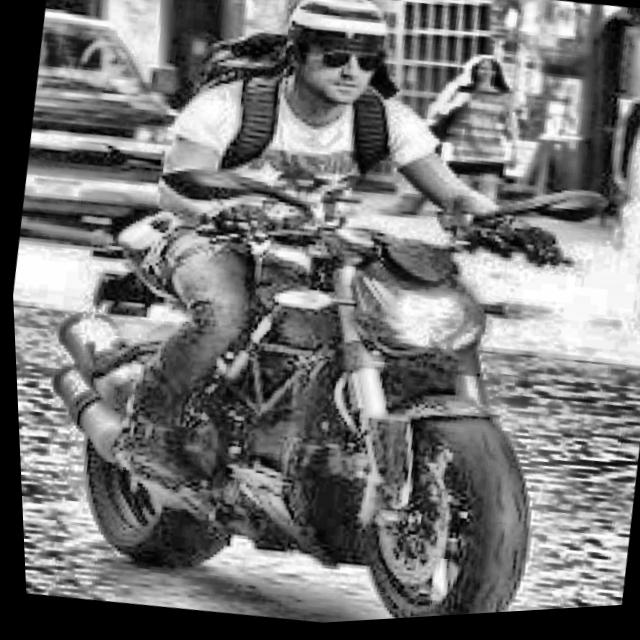motorcycle: (4, 99, 634, 640)
